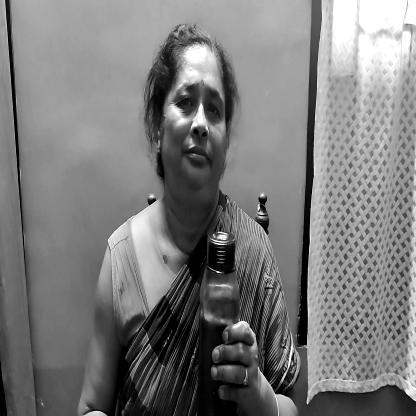Normal: (149, 31, 238, 211)
